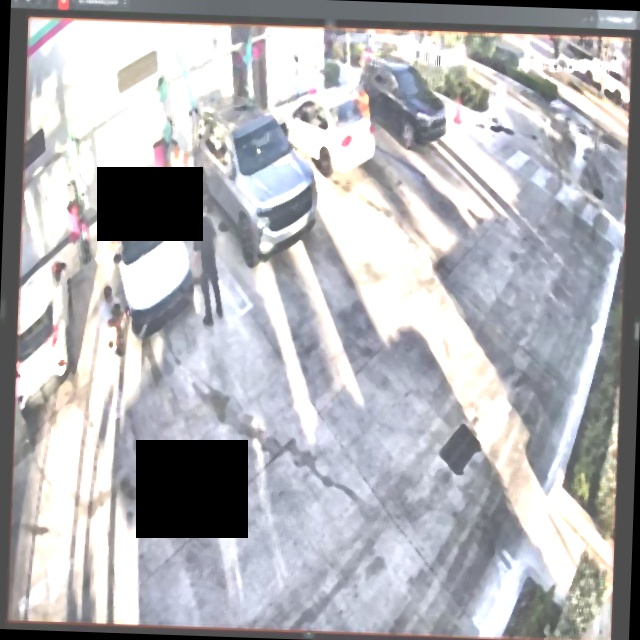Car: (190, 92, 321, 261), (104, 165, 192, 342), (278, 85, 375, 176), (357, 57, 449, 146)
